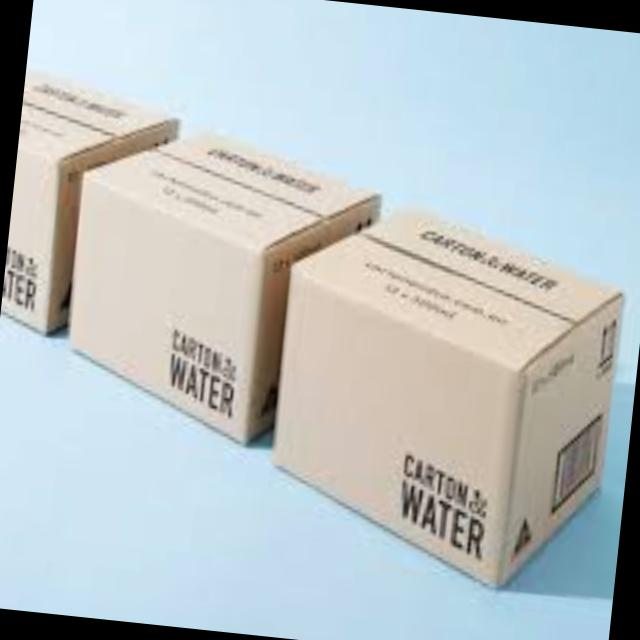cardboard paper: (270, 212, 615, 577), (66, 137, 375, 434), (0, 78, 172, 326)
